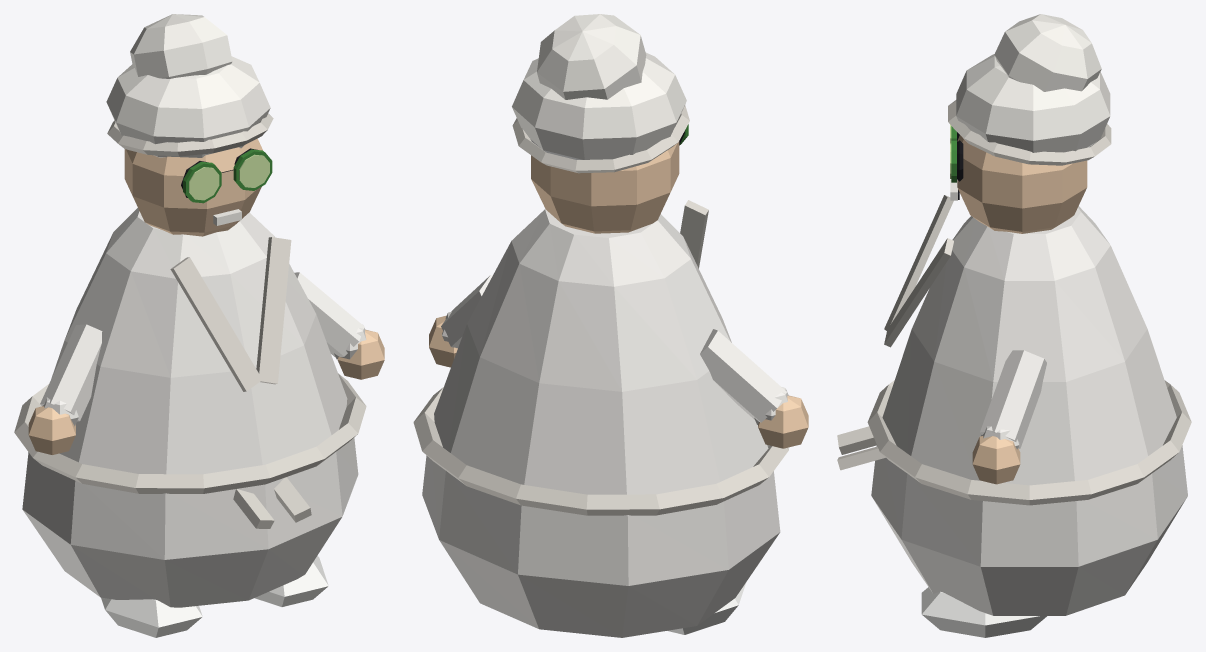
The model's file is npc_huesped.glb.
3 views of the same model, side by side, from view 1: azimuth 30°, elevation 25°; view 2: azimuth 150°, elevation 25°; view 3: azimuth 270°, elevation 25° (orthographic). The views are drawn at different scales.
Visible parts, largest first — view 1: body_robe_white, body_robe_terry, towel_towel, head_skin_crema, arms_robe_white, legs_slipper, arms_skin_crema, towel_robe_terry, cucumbers_cucumber (×2), cucumbers_cucumber_skin; view 2: body_robe_white, towel_towel, body_robe_terry, head_skin_crema, arms_robe_white, arms_skin_crema, towel_robe_terry, legs_slipper; view 3: body_robe_white, towel_towel, body_robe_terry, head_skin_crema, arms_robe_white, legs_slipper, towel_robe_terry, arms_skin_crema.
Boxes of the visible parts, x1,y1,x2,y2 form: body_robe_white: (22,208,358,607); body_robe_terry: (14,237,366,528); towel_towel: (106,14,270,157); head_skin_crema: (124,138,263,236); arms_robe_white: (40,272,366,426); legs_slipper: (101,556,328,637); arms_skin_crema: (28,329,384,454); towel_robe_terry: (107,113,273,156); cucumbers_cucumber (×2): (189,154,269,200); cucumbers_cucumber_skin: (233,149,272,190); body_robe_white: (422,209,780,637); towel_towel: (512,14,686,159); body_robe_terry: (413,200,788,515); head_skin_crema: (531,141,679,233); arms_robe_white: (441,275,788,424); arms_skin_crema: (429,315,808,448); towel_robe_terry: (512,105,689,173); legs_slipper: (667,582,746,634); body_robe_white: (871,206,1187,615); towel_towel: (956,14,1110,155); body_robe_terry: (837,195,1191,505); head_skin_crema: (957,135,1087,233); arms_robe_white: (980,350,1046,449); legs_slipper: (921,587,1046,637); towel_robe_terry: (948,100,1111,165); arms_skin_crema: (972,436,1020,484).
Bounding box in the file's own units: 1.13 × 1.73 × 0.9624.
